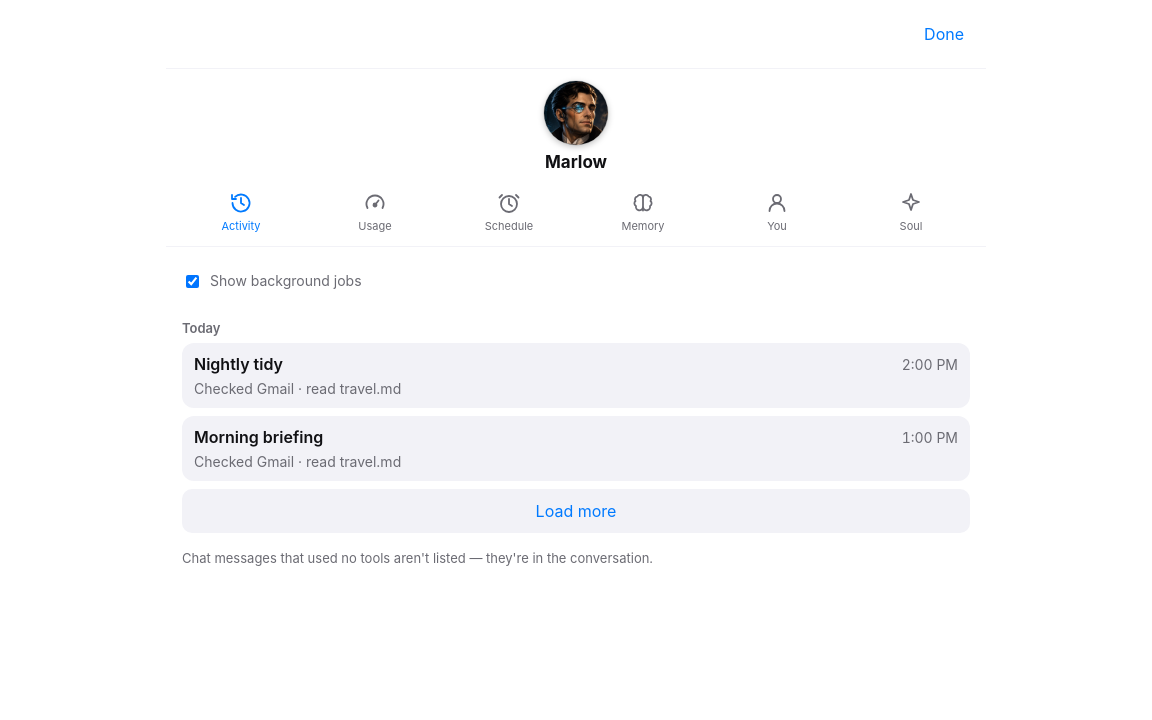
Test: activity view › shows first page newest first, loads more, stops at null next_before
Expected: the text "Nightly tidy" is shown, [194,353,283,376]
Expected: the heading "Today" is shown, [182,320,220,336]
Click the button "Load more" at (576, 511), box [182,489,970,533]
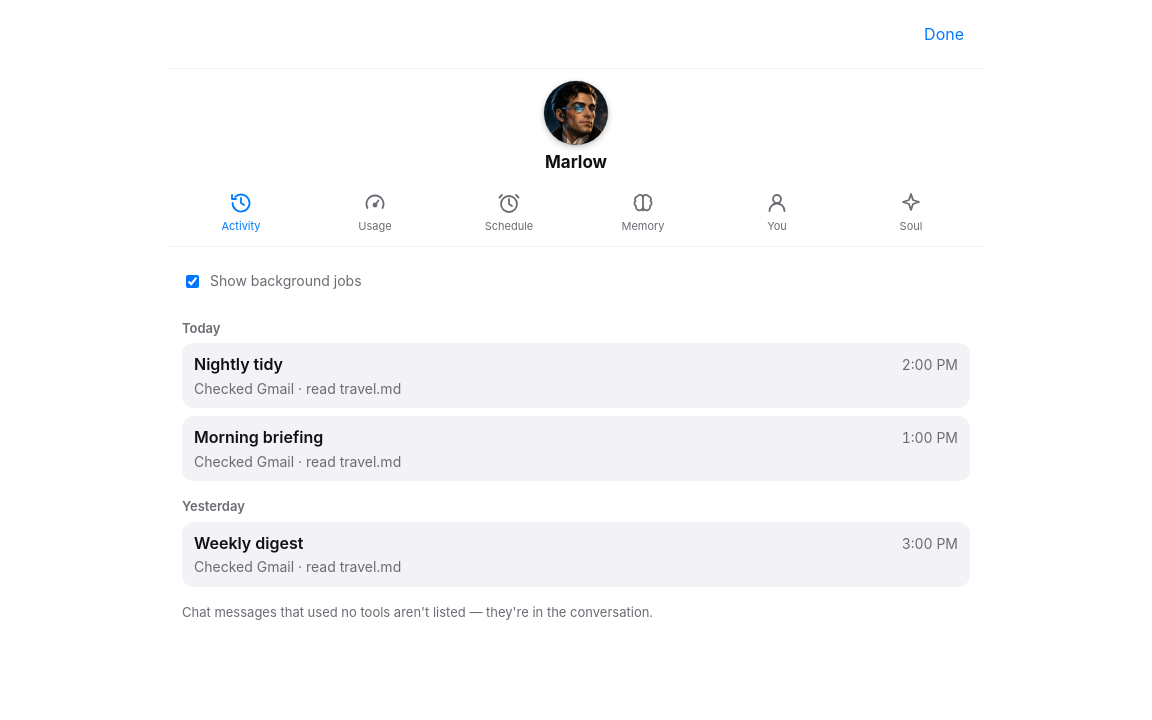
Now the text "Weekly digest" is shown, box [194,532,303,554]
Now the heading "Yesterday" is shown, box [182,498,245,514]
Now the button "Load more" is gone
